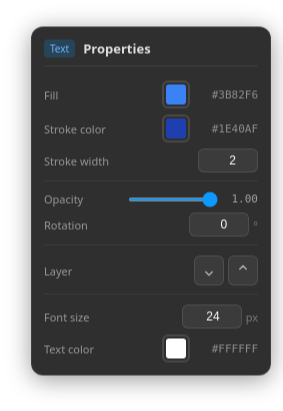
Test: PropertyPanel › updates text color on change
Type "#00FF00" into the colour field labelled "Text color" at [176, 348], box [162,334,190,362]
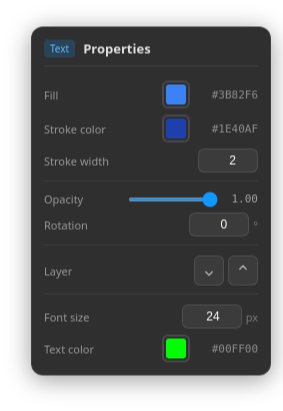
Expected: the text "#00FF00" is shown, [212,342,258,355]
